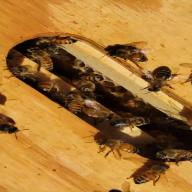Bee: (124, 158, 176, 186), (99, 39, 163, 61), (98, 135, 150, 158), (37, 31, 81, 48)
